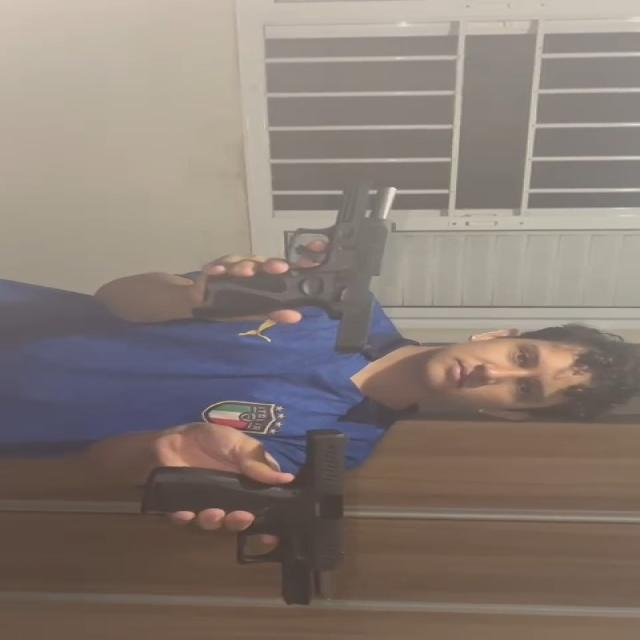gun: (140, 430, 353, 610), (198, 185, 402, 353)
